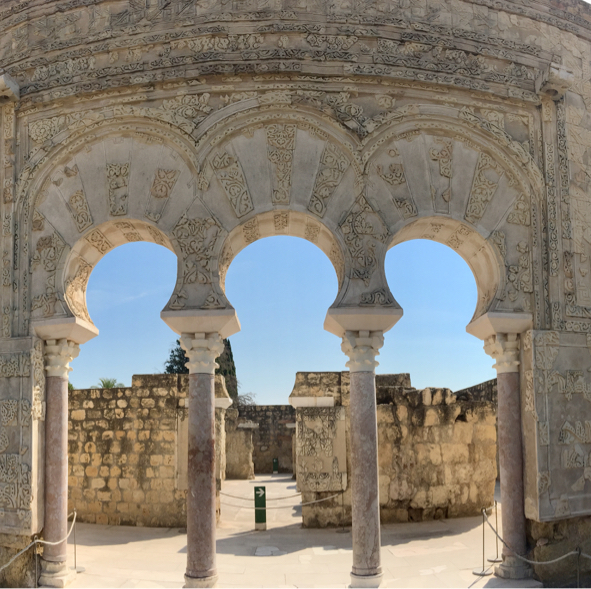arco-herradura: (202, 201, 364, 356), (364, 202, 512, 360), (53, 209, 201, 352)
